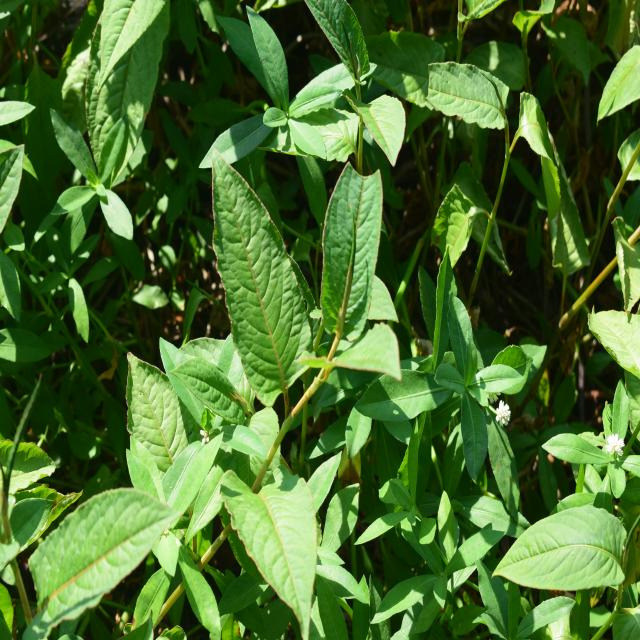Chinese_knotweed: (196, 149, 415, 455), (325, 0, 415, 192)
